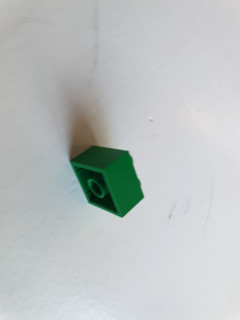2x2 green: (70, 145, 146, 218)
